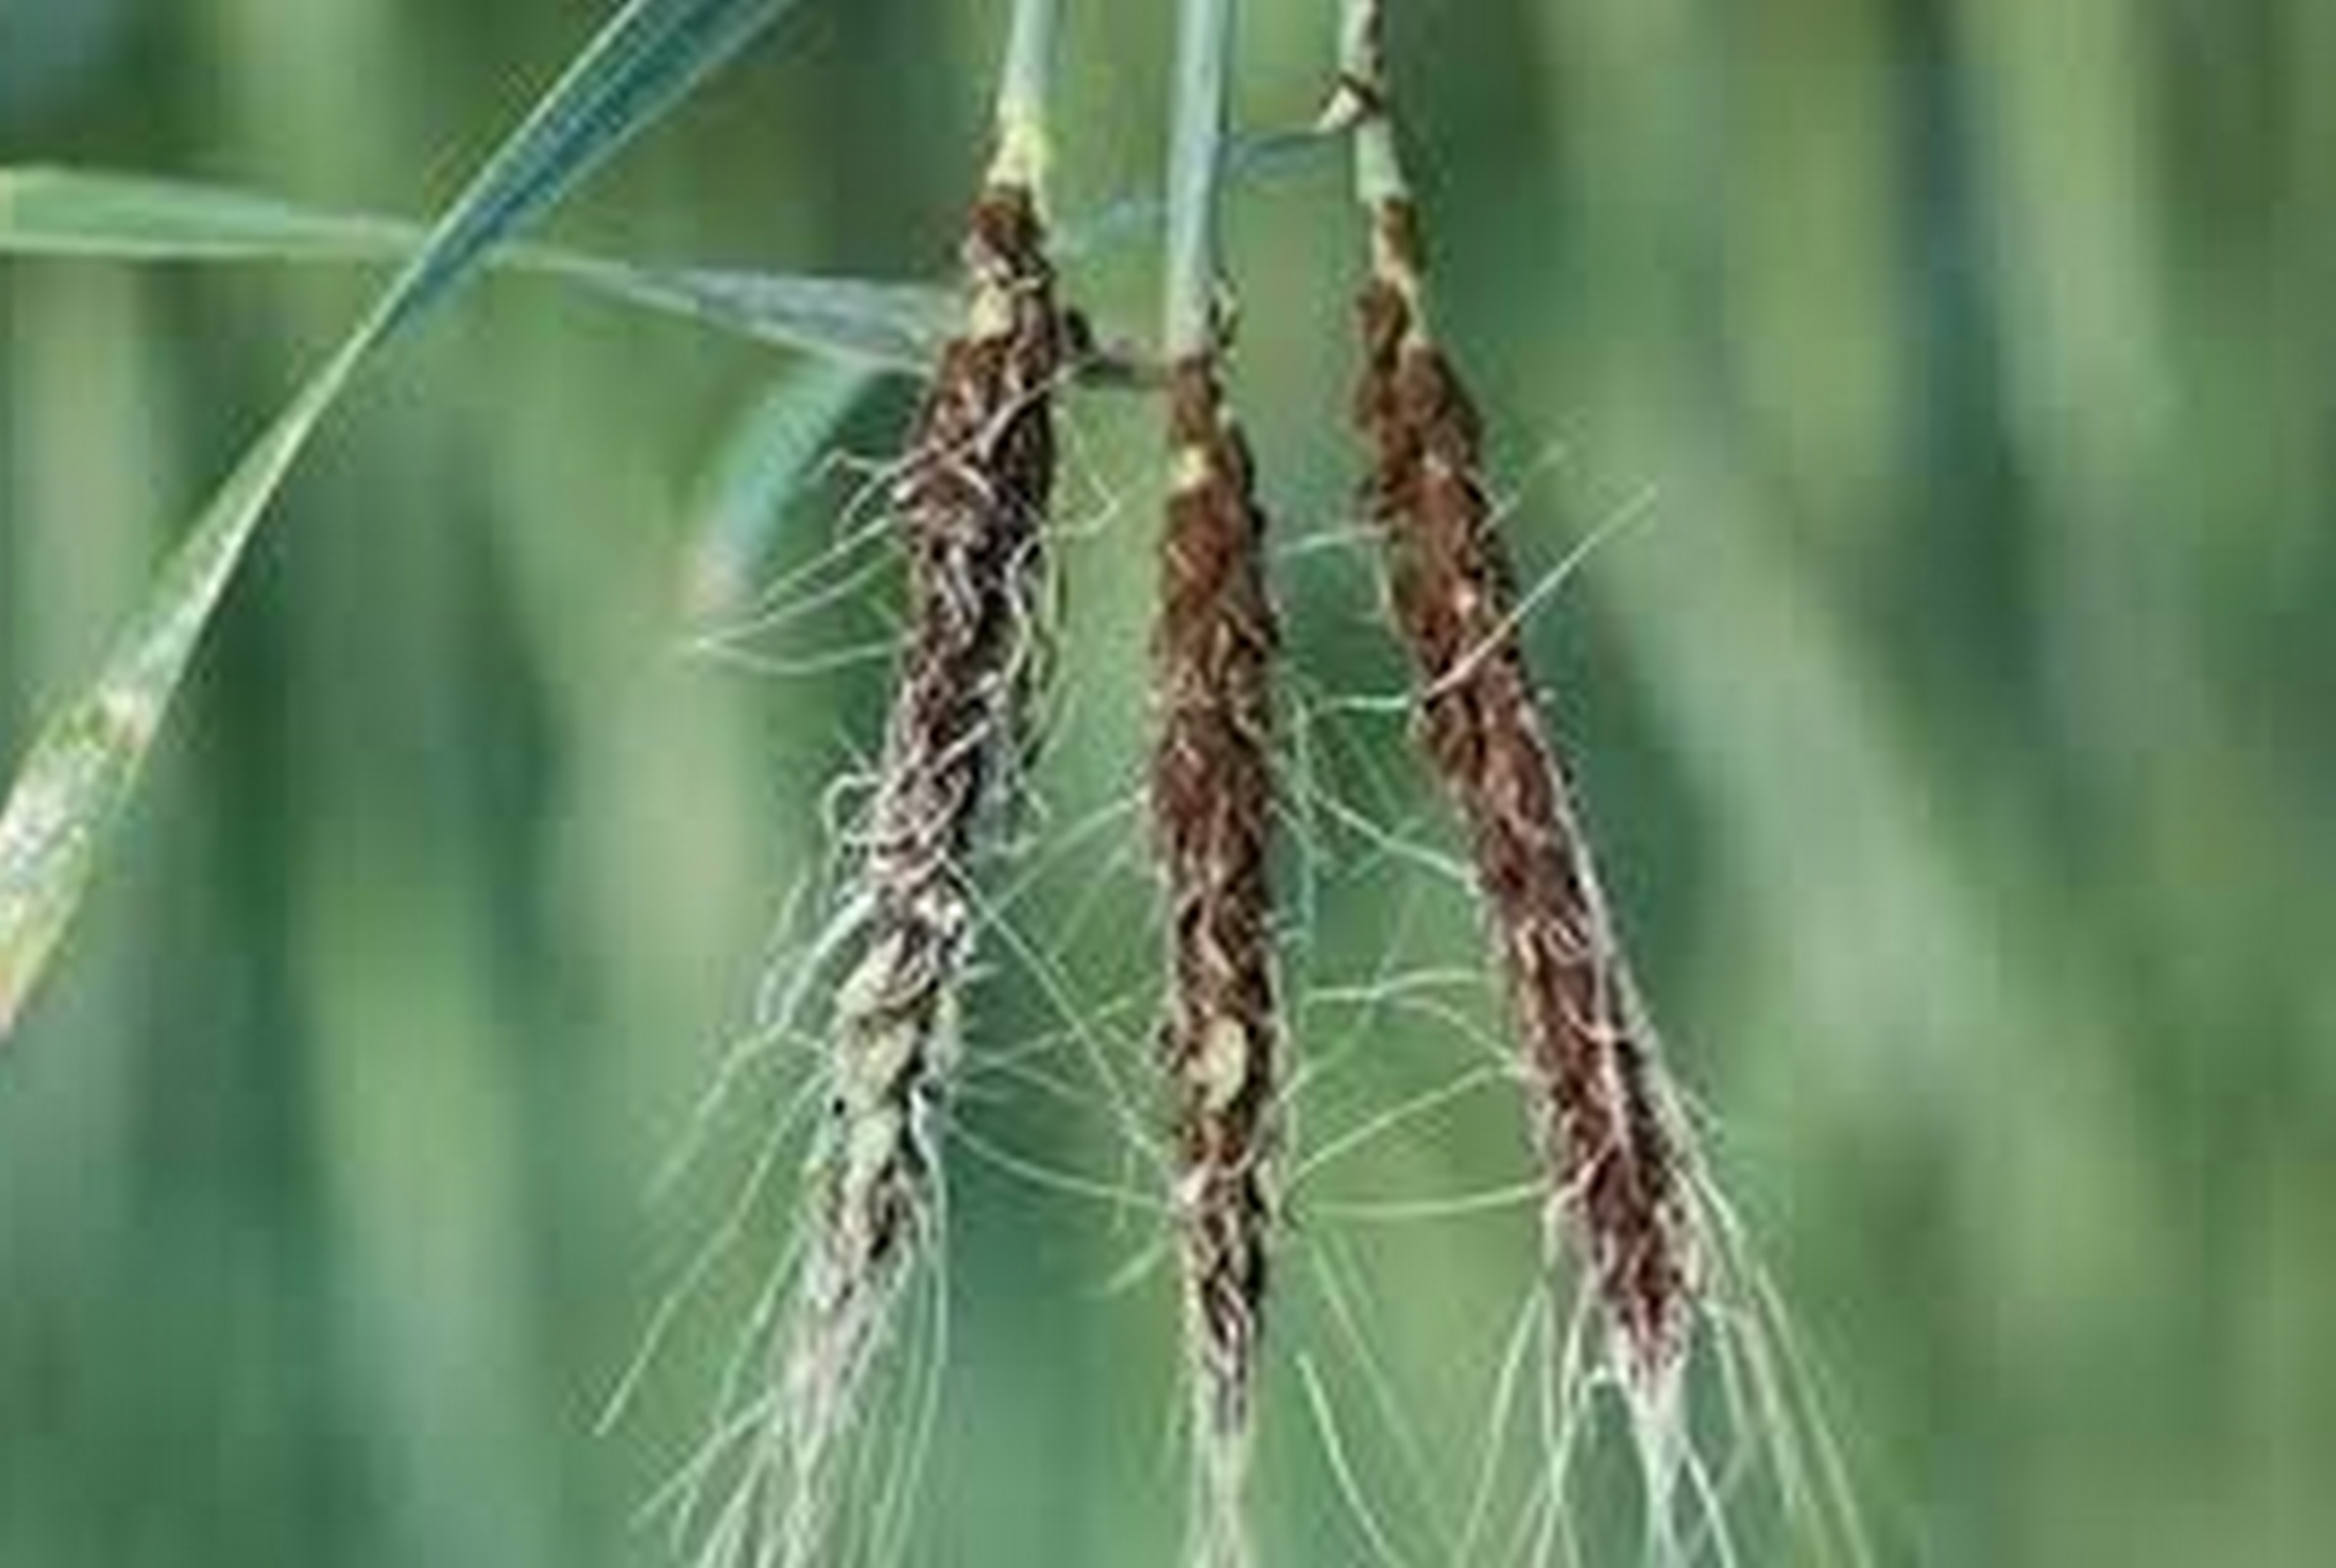Wheat Loose Smut: (717, 308, 1729, 1375)
